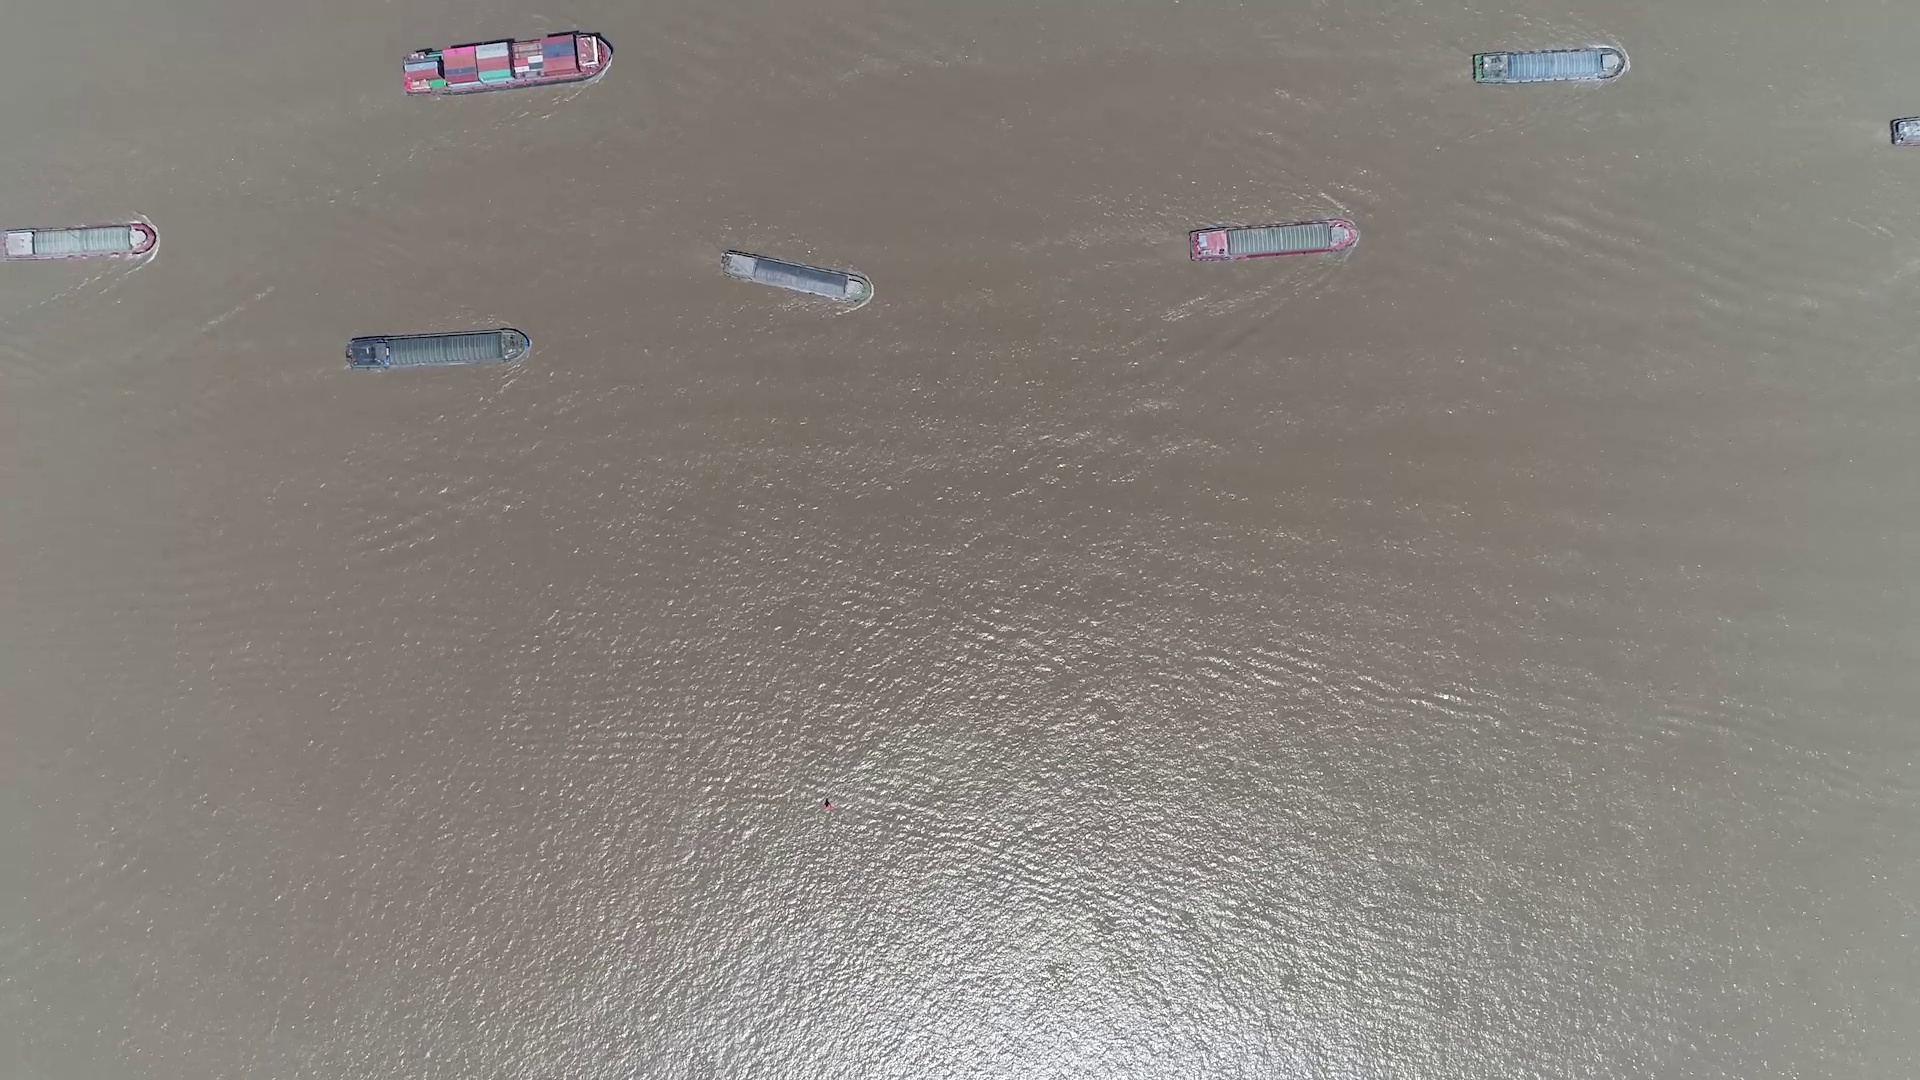ship: (400, 34, 611, 96), (723, 249, 872, 302), (347, 328, 527, 371), (1188, 222, 1357, 261), (1473, 47, 1625, 83), (0, 224, 156, 258)
